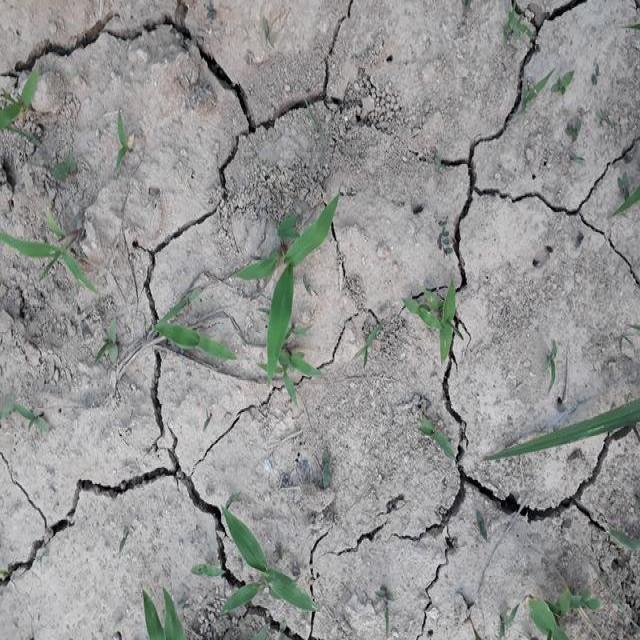weed: (225, 184, 332, 368), (203, 489, 324, 628), (406, 264, 476, 358)
